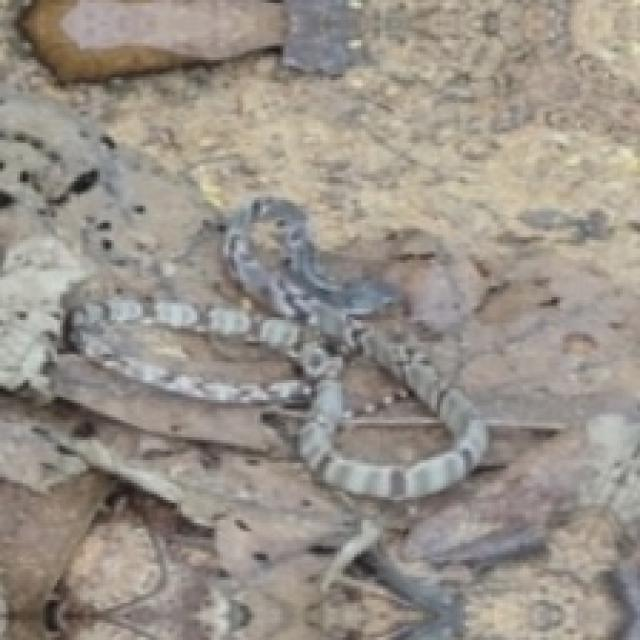dog-toothed cat snake: (71, 200, 486, 499)
